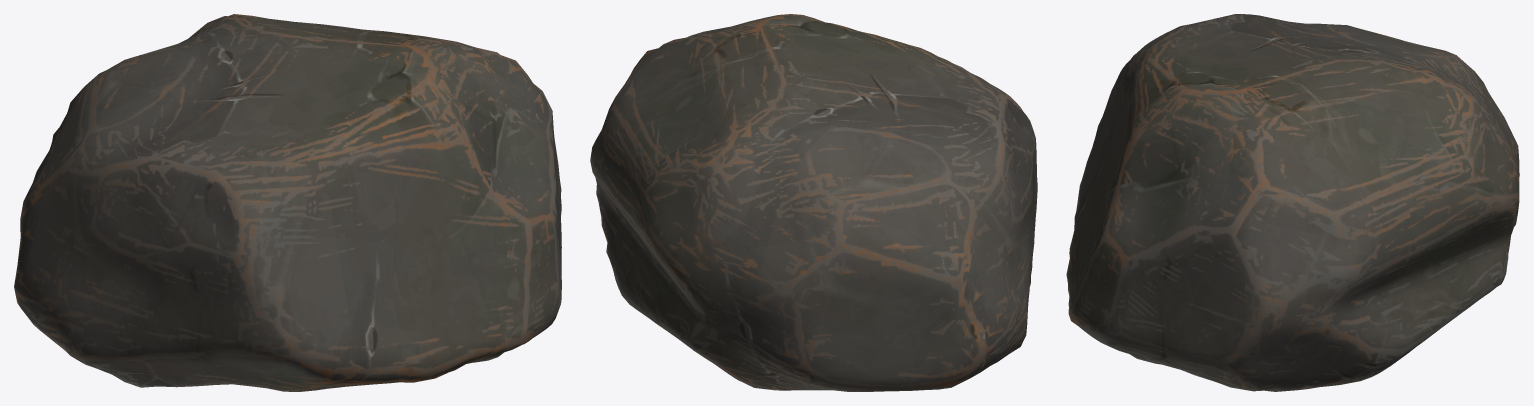
File: rock.glb
The picture shows the model from 3 angles, left to right: view 1: azimuth 30°, elevation 25°; view 2: azimuth 150°, elevation 25°; view 3: azimuth 270°, elevation 25°; orthographic projection. The views are drawn at different scales.
Visible parts, largest first — view 1: Object_2; view 2: Object_2; view 3: Object_2.
Part boxes in pixels (box(x1,y1,x2,y2)): Object_2: box(14, 14, 561, 391); Object_2: box(590, 14, 1037, 391); Object_2: box(1066, 14, 1519, 391).
Bounding box in the file's own units: 90.44 × 53.49 × 78.76.
1 material, 1 textured.
